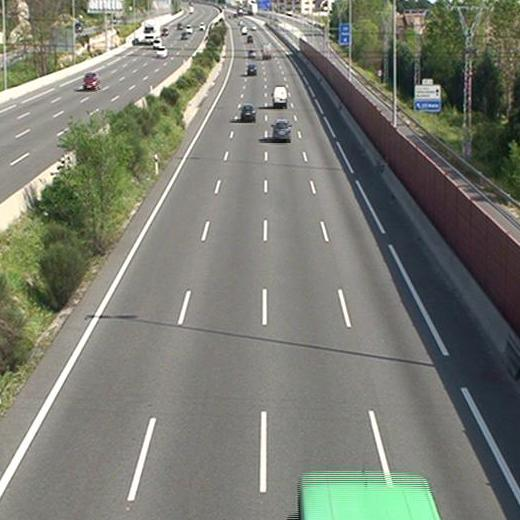car: (273, 119, 291, 141), (240, 104, 256, 121), (247, 63, 257, 75), (248, 50, 255, 58)
van: (272, 86, 287, 107), (261, 43, 272, 59)
